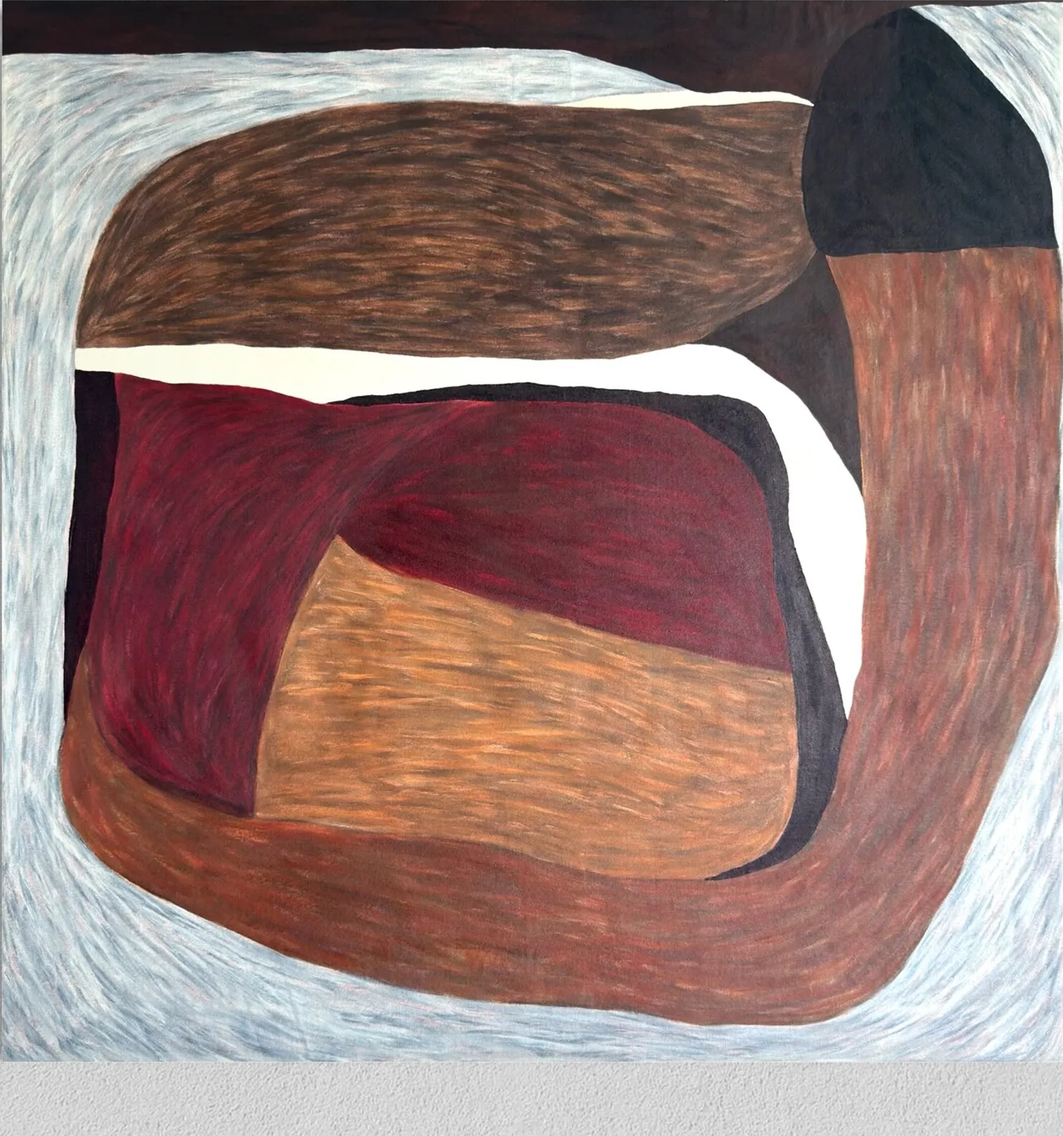painting: (5, 9, 1057, 1065)
